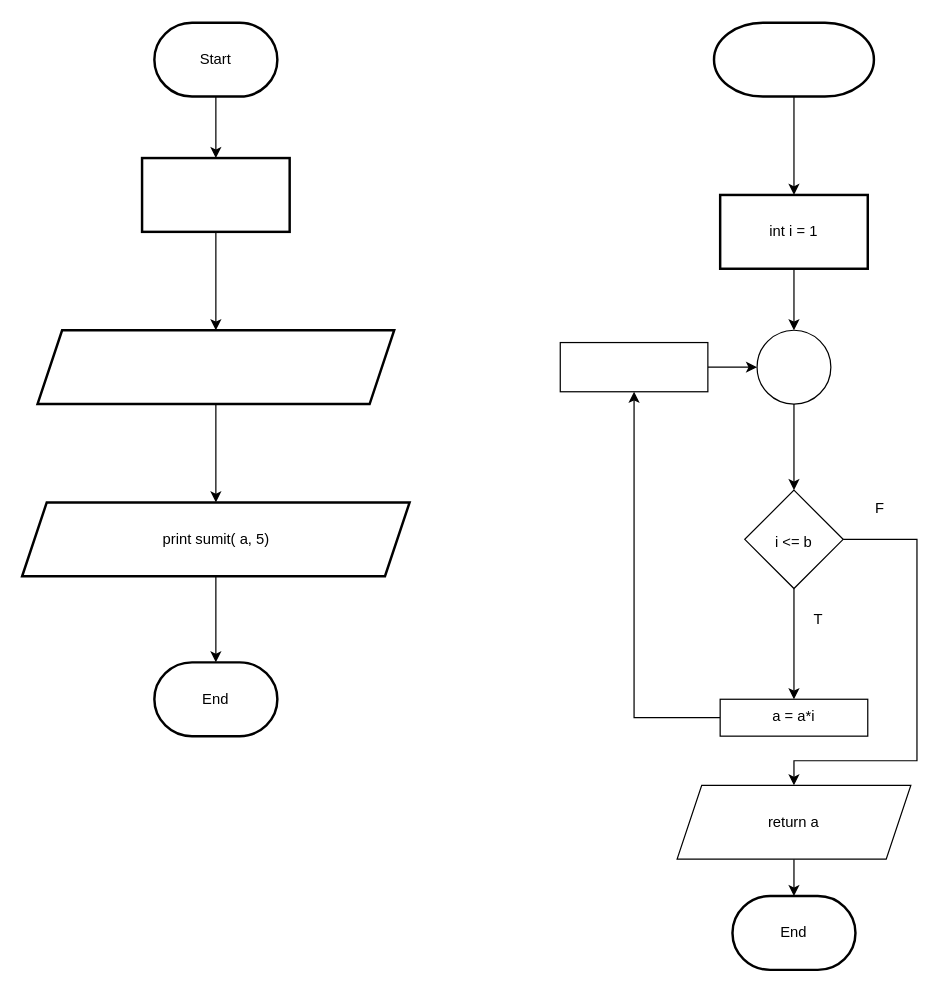
This 948x991 diagram has some shape labels left out. The centre of each missing label's shape, as x and y in pixels:
"i++" belongs at point 633,366.
"int a = 10" belongs at point 215,194.
"printf a" belongs at point 215,366.
"start sumit(int a, int b)" belongs at point 793,59.
